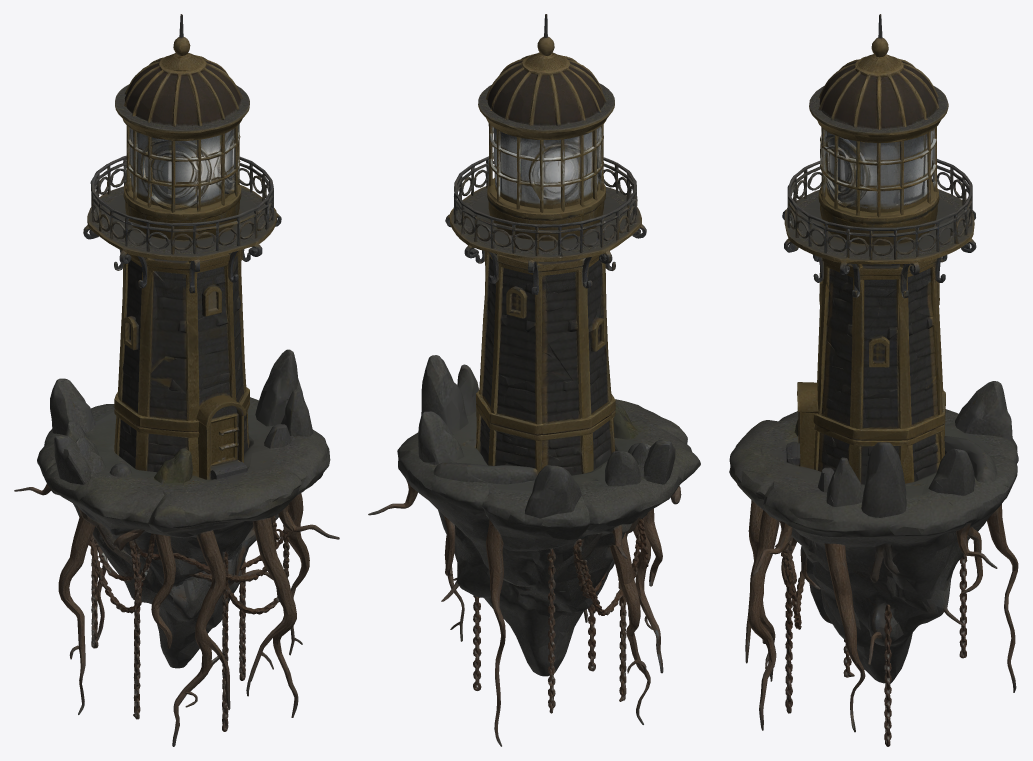
3 views of the same model, side by side, from view 1: azimuth 30°, elevation 25°; view 2: azimuth 150°, elevation 25°; view 3: azimuth 270°, elevation 25° (orthographic). The views are drawn at different scales.
Bounding box in the file's own units: 0.7264 × 1.9 × 0.7131.
Materials: 1 (1 with a texture image).
